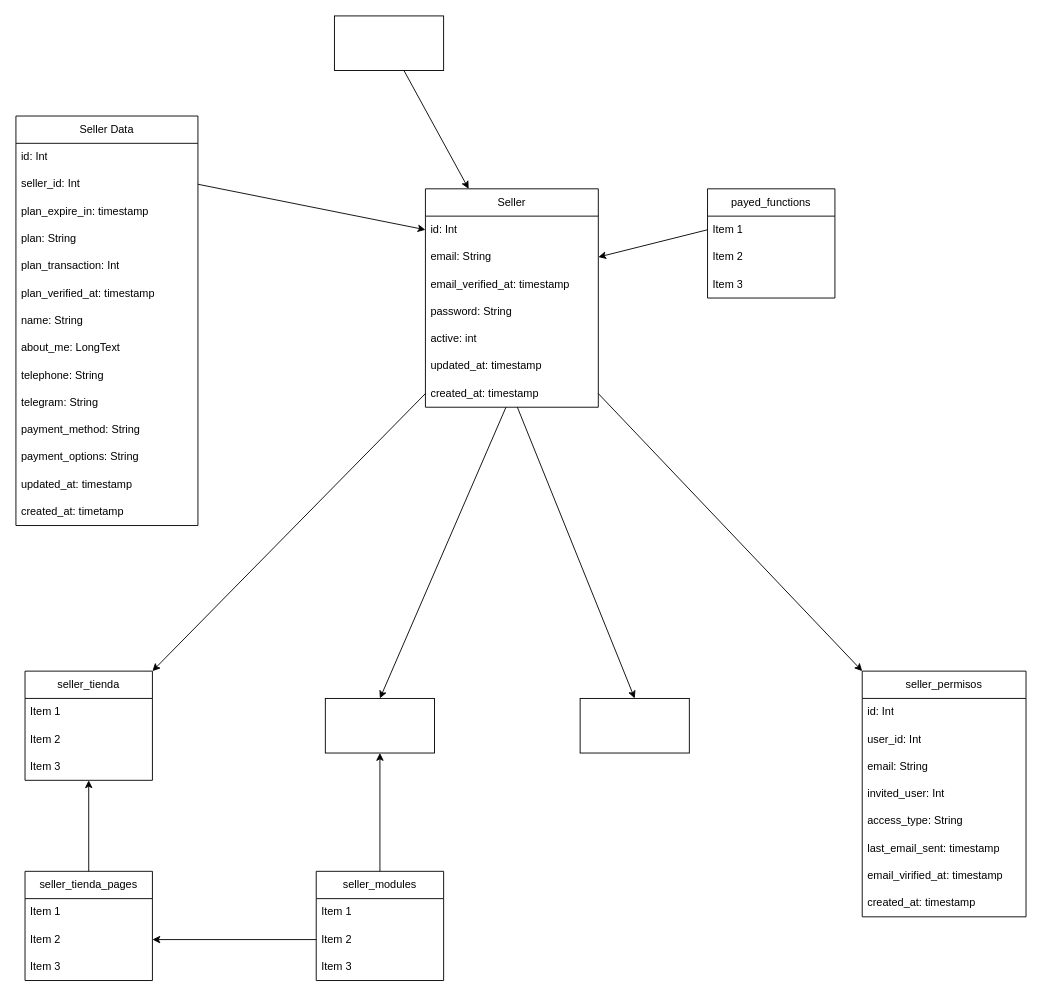
Some shapes in this 1042 by 996 pixel diagram are drawn without their labels. Here are the shapes that lost their labels. From the top down, the centre of each, then its label:
At point (389, 43): "Address".
At point (379, 725): "Product".
At point (634, 725): "Video".
